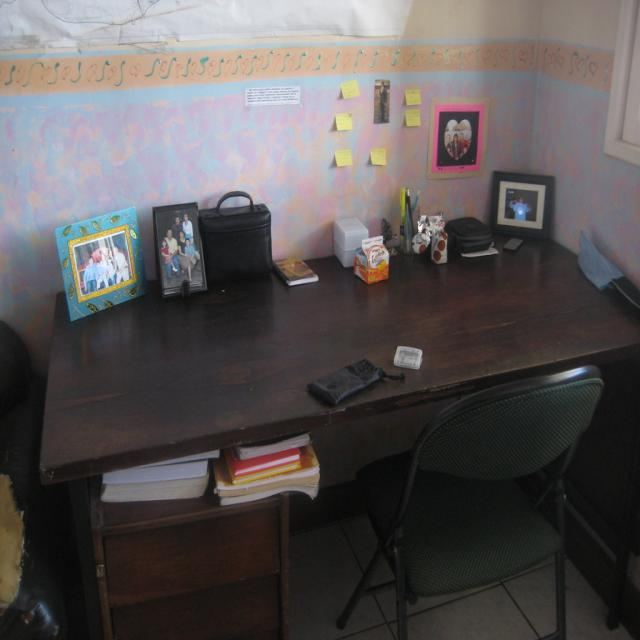chair: (335, 361, 603, 640)
desk: (38, 230, 640, 640)
